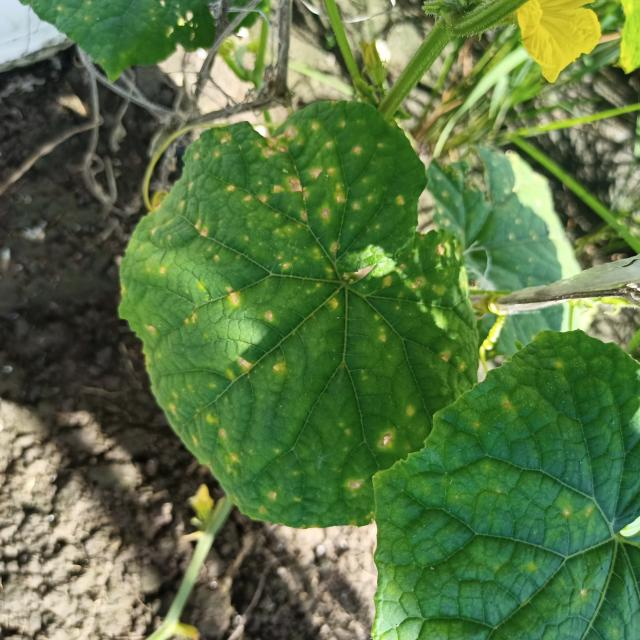disease_cucumber: (136, 99, 476, 521)
